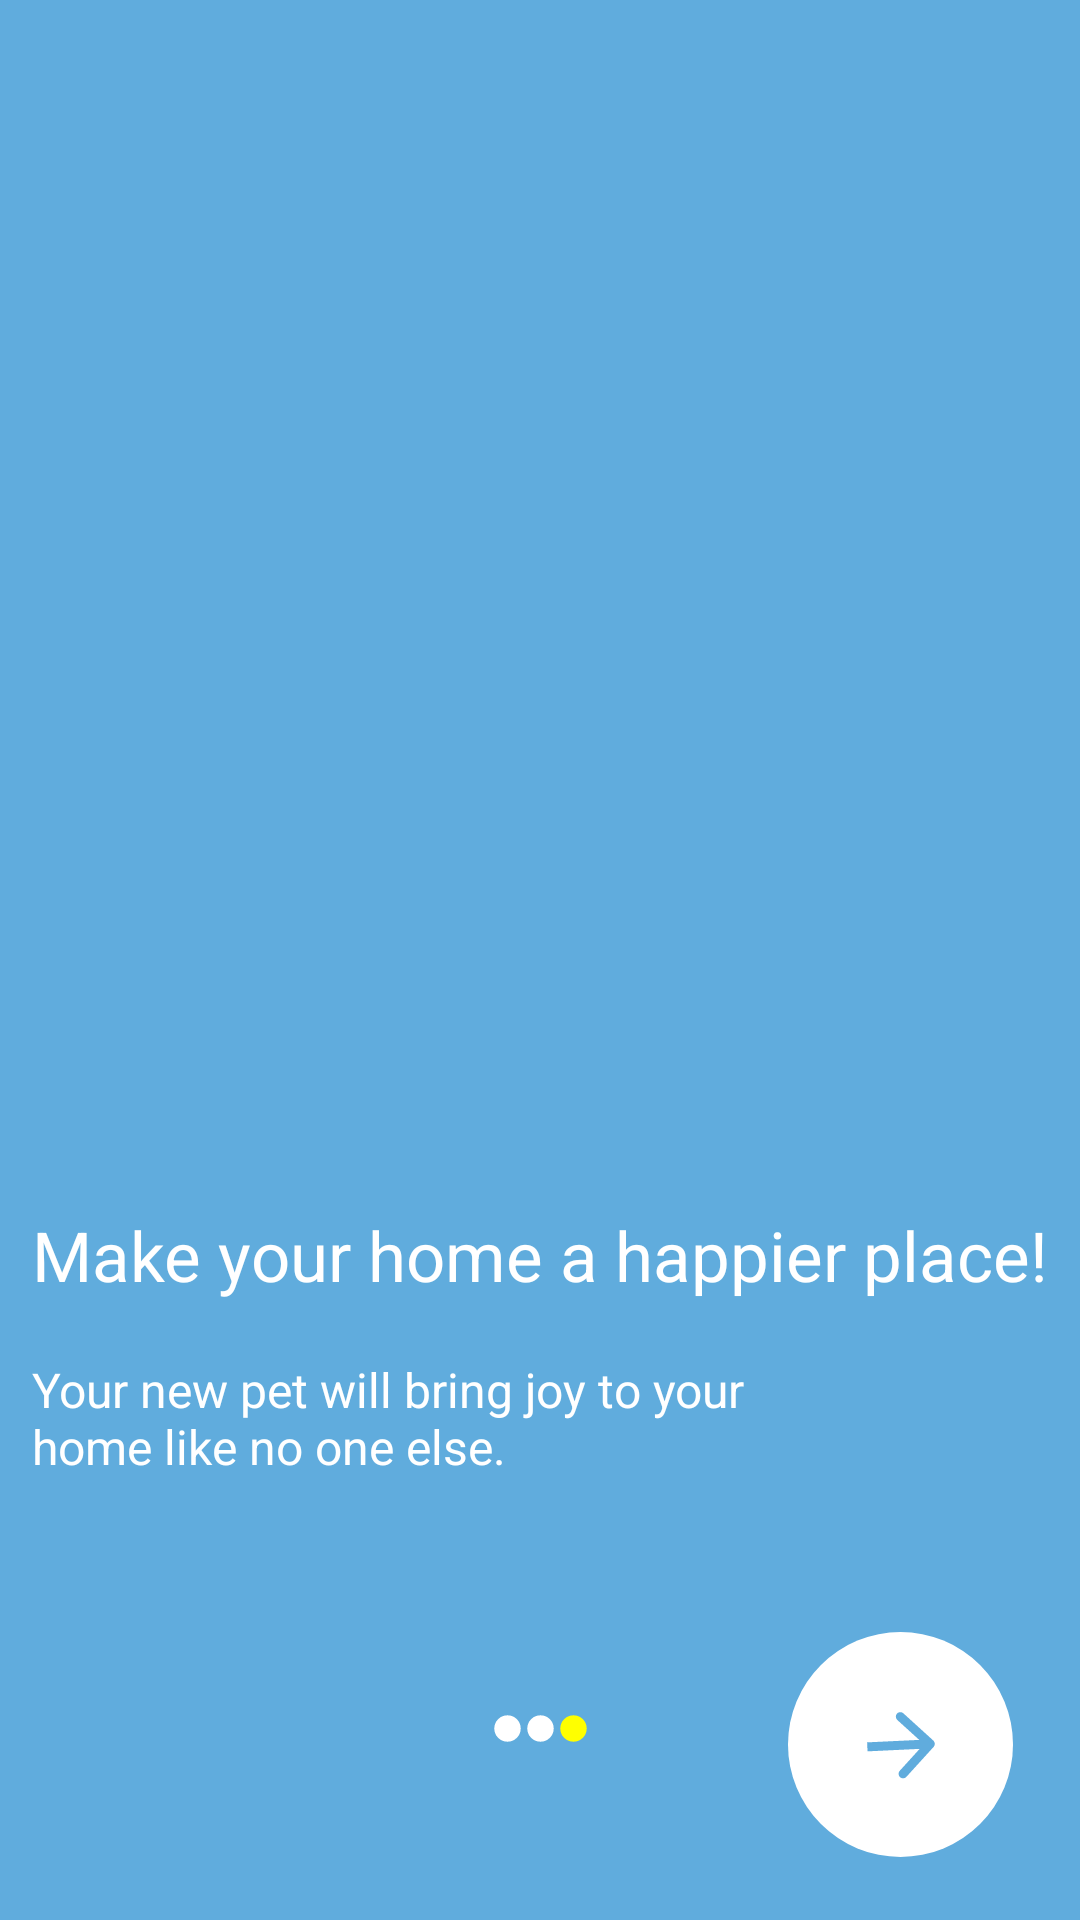

Point at icon controls on the screen. Image size 1080px x 1920px, points as (x,y).
buttonnext: (900,1744)
